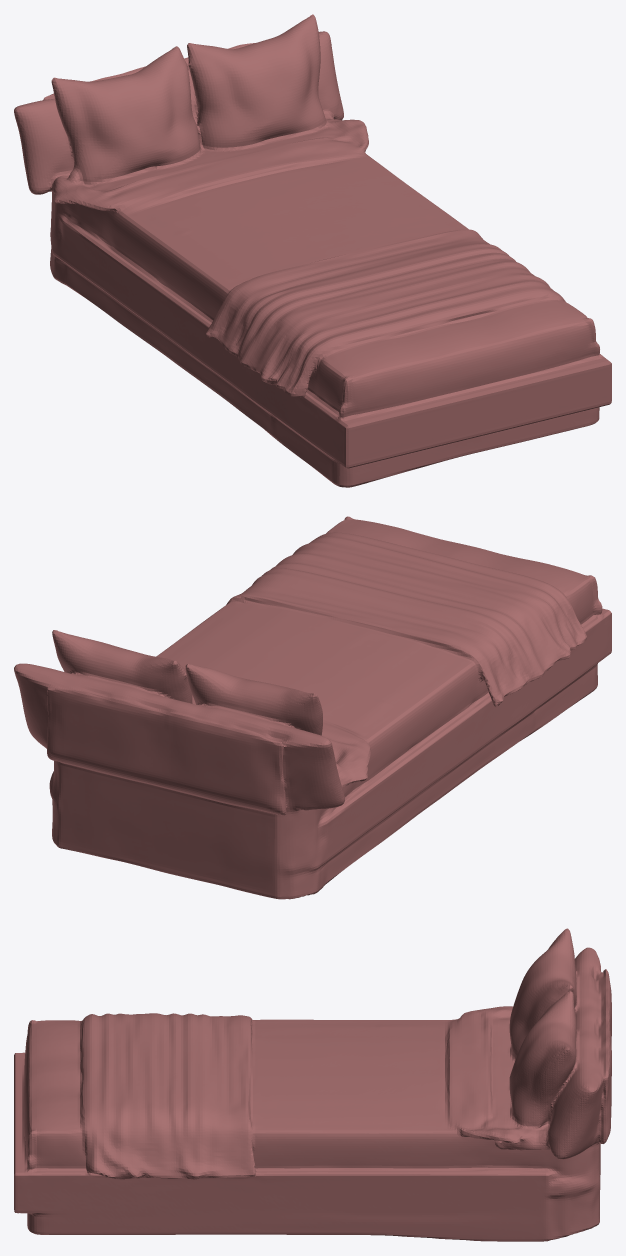
3 renders of one model, top to bottom at view 1: azimuth 30°, elevation 25°; view 2: azimuth 150°, elevation 25°; view 3: azimuth 270°, elevation 25°, orthographic. The views are drawn at different scales.
Visible parts, largest first — view 1: tmp8t52lw39ply; view 2: tmp8t52lw39ply; view 3: tmp8t52lw39ply.
Part boxes in pixels (x1,y1,x2,y2): tmp8t52lw39ply: (14, 14, 611, 487); tmp8t52lw39ply: (14, 516, 611, 899); tmp8t52lw39ply: (14, 928, 611, 1241).
Bounding box in the file's own units: 1.12 × 0.6972 × 1.96.
